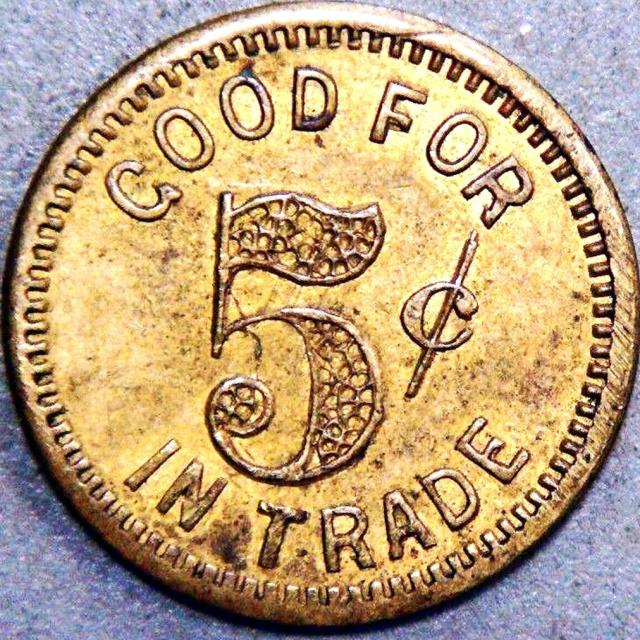Coin: (0, 0, 639, 638)
